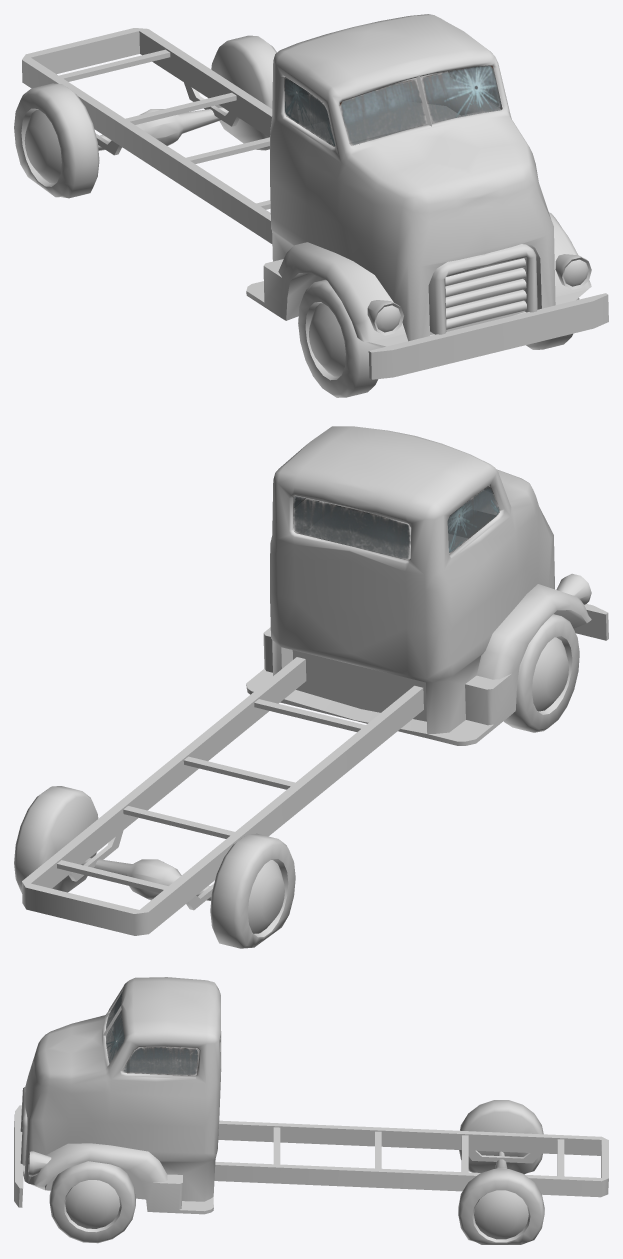
File: truck_01.glb
The picture shows the model from 3 angles, top to bottom: view 1: azimuth 30°, elevation 25°; view 2: azimuth 150°, elevation 25°; view 3: azimuth 270°, elevation 25°; orthographic projection. The views are drawn at different scales.
Visible parts, largest first — view 1: Object001_Material #76_0, Object002_Material #77_0; view 2: Object001_Material #76_0, Object002_Material #77_0; view 3: Object001_Material #76_0, Object002_Material #77_0.
Boxes of the visible parts, left/top/right/bottom form: Object001_Material #76_0: left=14, top=14, right=608, bottom=397; Object002_Material #77_0: left=284, top=65, right=502, bottom=146; Object001_Material #76_0: left=14, top=426, right=608, bottom=948; Object002_Material #77_0: left=293, top=486, right=499, bottom=559; Object001_Material #76_0: left=14, top=977, right=608, bottom=1244; Object002_Material #77_0: left=106, top=992, right=198, bottom=1075.
Size of the model in its own units: 134 by 155 by 404.
2 materials, 1 textured.
